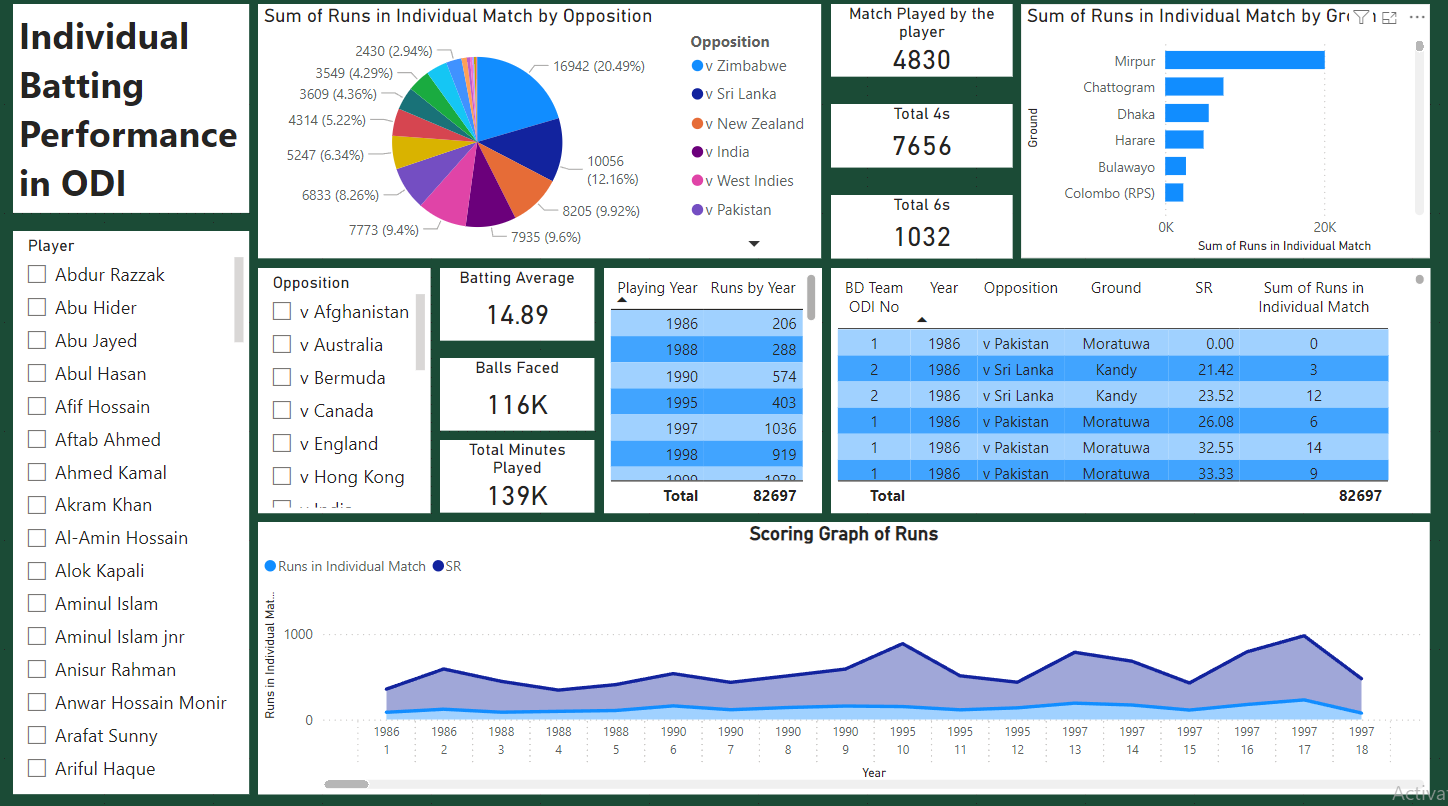

The dashboard page shown, as its layout file describes it:
{"tool":"powerbi","page":{"name":"Individual Batting","canvas":[1280,720],"ordinal":0},"visuals":[{"type":"slicer","fields":{"Values":["All Innings individual batting.Opposition"]},"box":[232,240,152,216],"z":0},{"type":"tableEx","fields":{"Values":["All Innings individual batting.Odi No","All Innings individual batting.Start Date.Variation.Date Hierarchy.Year","All Innings individual batting.Opposition","All Innings individual batting.Ground","All Innings individual batting.SR","All Innings individual batting.Run"]},"box":[736,240,528,216],"z":1000},{"type":"stackedAreaChart","title":"Scoring Graph of Runs","fields":{"Category":["All Innings individual batting.Odi No","All Innings individual batting.Start Date.Variation.Date Hierarchy.Year"],"Y":["All Innings individual batting.Runs in Individual Match","All Innings individual batting.SR"]},"box":[232,464,1032,240],"z":2000},{"type":"clusteredBarChart","fields":{"Category":["All Innings individual batting.Ground"],"Y":["All Innings individual batting.Run"]},"box":[904,8,360,224],"z":3000},{"type":"pieChart","fields":{"Y":["All Innings individual batting.Run"],"Category":["All Innings individual batting.Opposition"]},"box":[232,8,496,224],"z":4000},{"type":"card","title":"Match Played by the player","fields":{"Values":["All Innings individual batting.Odi No"]},"box":[736,8,160,64],"z":5000},{"type":"card","title":"Total 6s","fields":{"Values":["All Innings individual batting.6s"]},"box":[736,176,160,56],"z":6000},{"type":"card","title":"Total 4s","fields":{"Values":["All Innings individual batting.4s"]},"box":[736,96,160,56],"z":7000},{"type":"tableEx","fields":{"Values":["All Innings individual batting.Playing Year","All Innings individual batting.Runs in Individual Match"]},"box":[536,240,192,216],"z":8000},{"type":"slicer","fields":{"Values":["All innings individual bowling.Player"]},"box":[16,208,208,496],"z":9000},{"type":"textbox","box":[16,8,208,184],"z":10000},{"type":"card","title":"Batting Average","fields":{"Values":["Batting Stat - All Players.Ave"]},"box":[392,240,136,64],"z":11000},{"type":"card","title":"Total Minutes Played","fields":{"Values":["All Innings individual batting.Mins"]},"box":[392,392,136,64],"z":12000},{"type":"card","title":"Balls Faced","fields":{"Values":["All Innings individual batting.BF"]},"box":[392,320,136,64],"z":13000}]}

Visuals, with their boxes in screenshot pixels (x1, y1, x2, y2):
slicer - All Innings individual batting.Opposition: box=[251, 264, 425, 511]
tableEx - All Innings individual batting.Odi No x All Innings individual batting.Start Date.Variation.Date Hierarchy.Year: box=[828, 264, 1433, 511]
"Scoring Graph of Runs" stackedAreaChart: box=[251, 520, 1433, 795]
clusteredBarChart - All Innings individual batting.Ground x All Innings individual batting.Run: box=[1021, 0, 1433, 255]
pieChart - All Innings individual batting.Run x All Innings individual batting.Opposition: box=[251, 0, 819, 255]
"Match Played by the player" card: box=[828, 0, 1012, 71]
"Total 6s" card: box=[828, 190, 1012, 255]
"Total 4s" card: box=[828, 99, 1012, 163]
tableEx - All Innings individual batting.Playing Year x All Innings individual batting.Runs in Individual Match: box=[599, 264, 819, 511]
slicer - All innings individual bowling.Player: box=[3, 227, 242, 795]
textbox: box=[3, 0, 242, 209]
"Batting Average" card: box=[434, 264, 590, 337]
"Total Minutes Played" card: box=[434, 438, 590, 511]
"Balls Faced" card: box=[434, 355, 590, 429]
